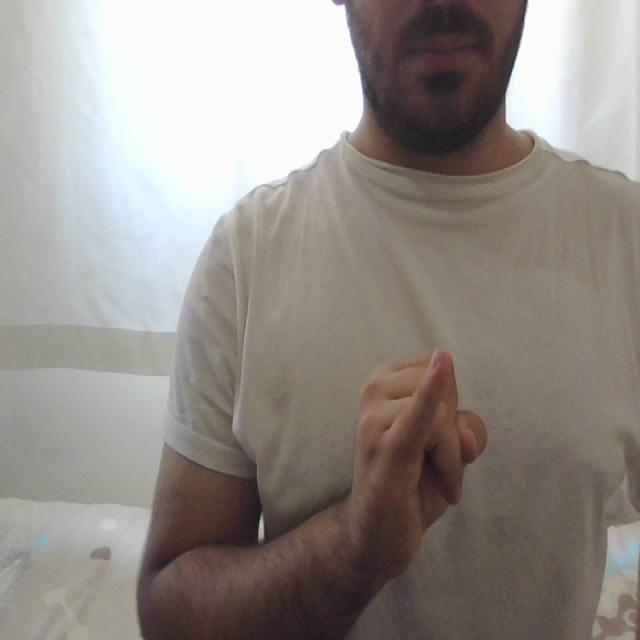kotu: (345, 327, 490, 532)
